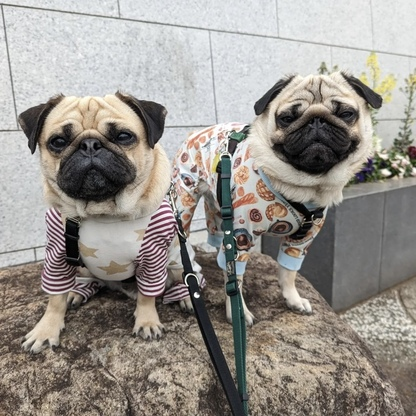Pug: (173, 53, 388, 330), (11, 84, 177, 360)
